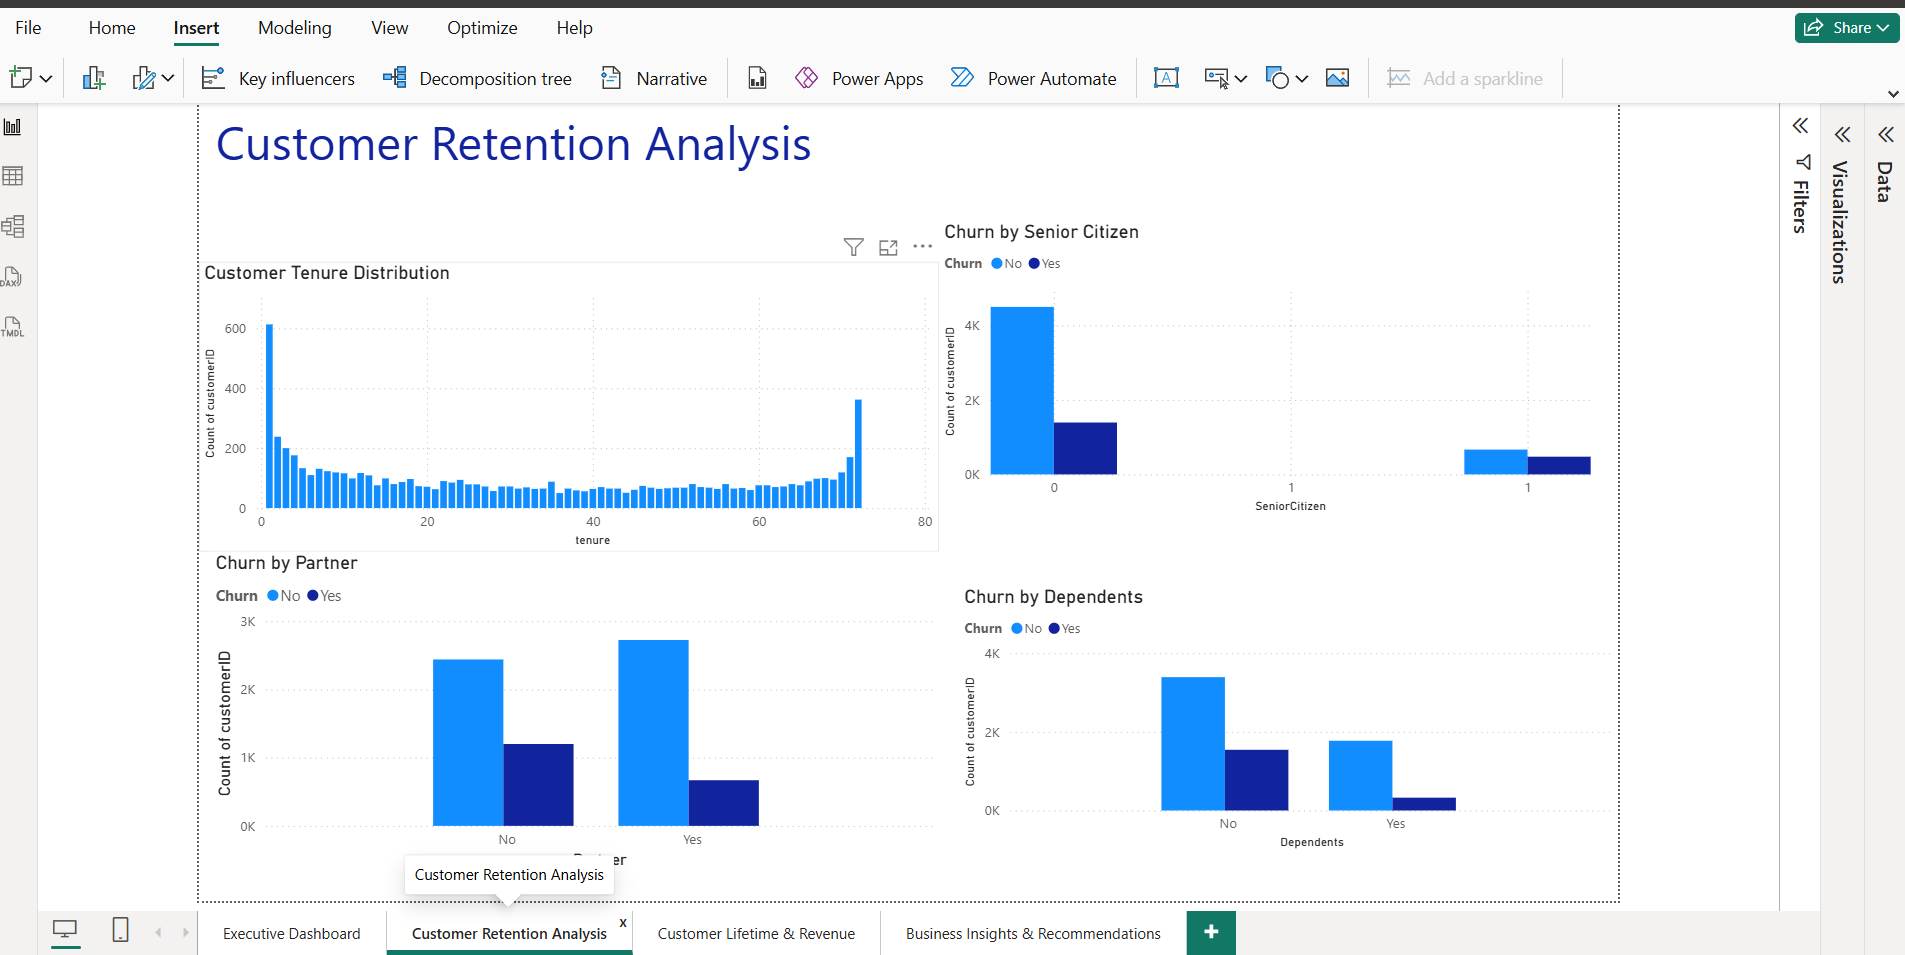

The dashboard page shown, as its layout file describes it:
{"tool":"powerbi","page":{"name":"Customer Retention Analysis","canvas":[1280,720],"ordinal":1},"visuals":[{"type":"textbox","box":[9.6,0,564,76.8],"z":0},{"type":"clusteredColumnChart","title":"Customer Tenure Distribution","fields":{"Category":["WA_Fn-UseC_-Telco-Customer-Churn.tenure"],"Y":["CountNonNull(WA_Fn-UseC_-Telco-Customer-Churn.customerID)"]},"box":[0,142.7,666.9,262.1],"z":1},{"type":"clusteredColumnChart","title":"Churn by Senior Citizen","fields":{"Category":["WA_Fn-UseC_-Telco-Customer-Churn.SeniorCitizen"],"Y":["CountNonNull(WA_Fn-UseC_-Telco-Customer-Churn.customerID)"],"Series":["WA_Fn-UseC_-Telco-Customer-Churn.Churn"]},"box":[666.9,105.7,592.8,269],"z":2},{"type":"clusteredColumnChart","title":"Churn by Partner","fields":{"Category":["WA_Fn-UseC_-Telco-Customer-Churn.Partner"],"Y":["CountNonNull(WA_Fn-UseC_-Telco-Customer-Churn.customerID)"],"Series":["WA_Fn-UseC_-Telco-Customer-Churn.Churn"]},"box":[9.6,404.8,657.3,290.9],"z":3},{"type":"clusteredColumnChart","title":"Churn by Dependents","fields":{"Category":["WA_Fn-UseC_-Telco-Customer-Churn.Dependents"],"Y":["CountNonNull(WA_Fn-UseC_-Telco-Customer-Churn.customerID)"],"Series":["WA_Fn-UseC_-Telco-Customer-Churn.Churn"]},"box":[684.7,435,595.5,242.9],"z":4}]}

Visuals, with their boxes on the page's 1280x720 design canvas (x1, y1, x2, y2). These are canvas units, not pixel positions in the 1905x955 screenshot, which may show the page scaled, cropped or inside an application window:
textbox: detection(10, 0, 574, 77)
"Customer Tenure Distribution" clusteredColumnChart: detection(0, 143, 667, 405)
"Churn by Senior Citizen" clusteredColumnChart: detection(667, 106, 1260, 375)
"Churn by Partner" clusteredColumnChart: detection(10, 405, 667, 696)
"Churn by Dependents" clusteredColumnChart: detection(685, 435, 1280, 678)
